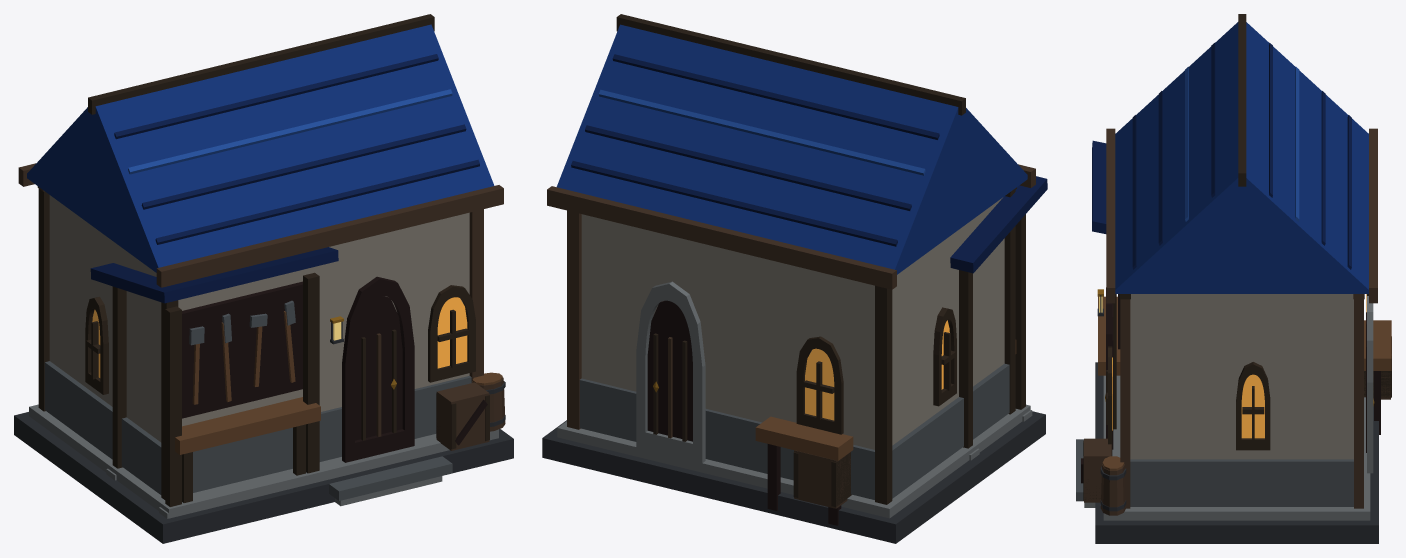
Rendered from eastbrook_toolworks.glb.
3 renders of one model, left to right at view 1: azimuth 30°, elevation 25°; view 2: azimuth 150°, elevation 25°; view 3: azimuth 270°, elevation 25°, orthographic. The views are drawn at different scales.
Visible parts, largest first — view 1: EastbrookToolworks_TownOpaque, EastbrookToolworks_TownEmissive; view 2: EastbrookToolworks_TownOpaque, EastbrookToolworks_TownEmissive; view 3: EastbrookToolworks_TownOpaque, EastbrookToolworks_TownEmissive.
Part boxes in pixels (x1,y1,x2,y2): EastbrookToolworks_TownOpaque: (14,14,513,543); EastbrookToolworks_TownEmissive: (92,297,467,377); EastbrookToolworks_TownOpaque: (542,14,1047,543); EastbrookToolworks_TownEmissive: (805,320,949,420); EastbrookToolworks_TownOpaque: (1076,14,1391,543); EastbrookToolworks_TownEmissive: (1099,294,1366,438).
Bounding box in the file's own units: 5.5 × 5.8 × 4.5.
